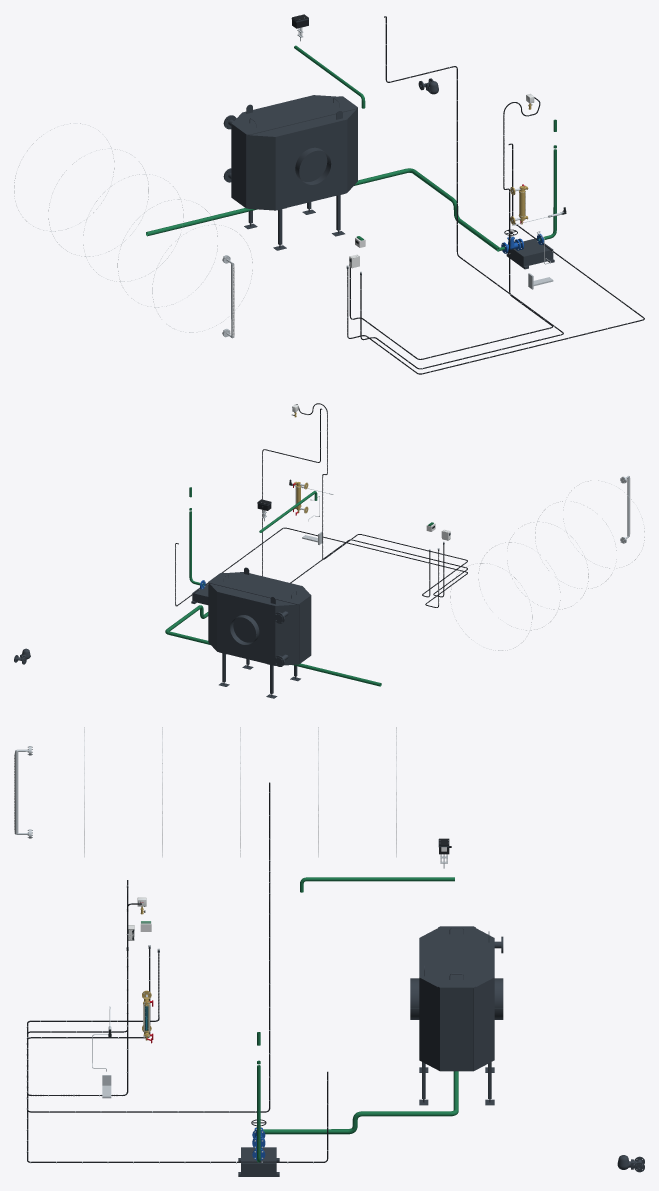
3 renders of one model, top to bottom at view 1: azimuth 30°, elevation 25°; view 2: azimuth 150°, elevation 25°; view 3: azimuth 270°, elevation 25°, orthographic. The views are drawn at different scales.
Parts seen in each view (by area): view 1: EQS2-3000 CAD 0, EQS2-3000 CAD 3, EQS2-3000 CAD 1, suction_common / green, gpz_drive_cable / black, wiring_pump_2 / black, wiring_pressure_switch_3 / black, pump_branch_1 / dark, deaerator_details / steel; view 2: EQS2-3000 CAD 0, EQS2-3000 CAD 3, EQS2-3000 CAD 2, suction_common / green, gpz_drive_cable / black, wiring_pump_2 / black, wiring_pressure_switch_3 / black, deaerator_details / steel; view 3: EQS2-3000 CAD 3, suction_common / green, EQS2-3000 CAD 0, gpz_drive_cable / black, wiring_pump_2 / black, deaerator_details / steel, wiring_pressure_switch_3 / black, pump_branch_1 / dark, direct_inlet / green.
Part boxes in pixels (bbox=[...]): EQS2-3000 CAD 0: bbox=[244, 119, 347, 250]; EQS2-3000 CAD 3: bbox=[231, 95, 357, 208]; EQS2-3000 CAD 1: bbox=[246, 135, 275, 210]; suction_common / green: bbox=[146, 168, 499, 251]; gpz_drive_cable / black: bbox=[360, 16, 563, 369]; wiring_pump_2 / black: bbox=[347, 143, 644, 374]; wiring_pressure_switch_3 / black: bbox=[349, 97, 552, 359]; pump_branch_1 / dark: bbox=[506, 238, 554, 269]; deaerator_details / steel: bbox=[14, 123, 252, 338]; EQS2-3000 CAD 0: bbox=[217, 592, 300, 698]; EQS2-3000 CAD 3: bbox=[208, 567, 311, 664]; EQS2-3000 CAD 2: bbox=[274, 604, 298, 666]; suction_common / green: bbox=[165, 605, 381, 686]; gpz_drive_cable / black: bbox=[262, 408, 467, 597]; wiring_pump_2 / black: bbox=[175, 527, 467, 607]; wiring_pressure_switch_3 / black: bbox=[292, 403, 467, 597]; deaerator_details / steel: bbox=[450, 475, 644, 650]; EQS2-3000 CAD 3: bbox=[419, 926, 494, 1071]; suction_common / green: bbox=[263, 1071, 458, 1134]; EQS2-3000 CAD 0: bbox=[410, 978, 503, 1105]; gpz_drive_cable / black: bbox=[27, 782, 270, 1112]; wiring_pump_2 / black: bbox=[27, 949, 328, 1162]; deaerator_details / steel: bbox=[14, 727, 396, 857]; wiring_pressure_switch_3 / black: bbox=[27, 880, 159, 1095]; pump_branch_1 / dark: bbox=[238, 1147, 279, 1176]; direct_inlet / green: bbox=[300, 877, 432, 892].
Bounding box in the file's own units: 7.46 × 3.71 × 6.88.
